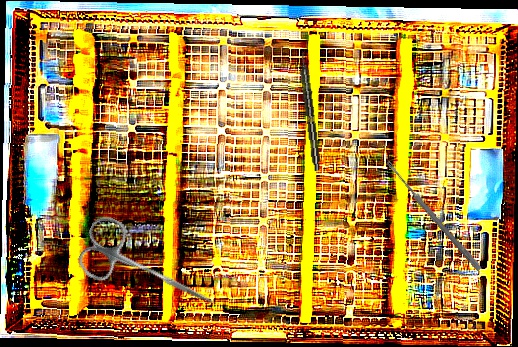Handpiece: (297, 51, 323, 172)
Iris Scissors: (71, 211, 229, 330)
Surgical Spoon: (383, 159, 484, 272)
